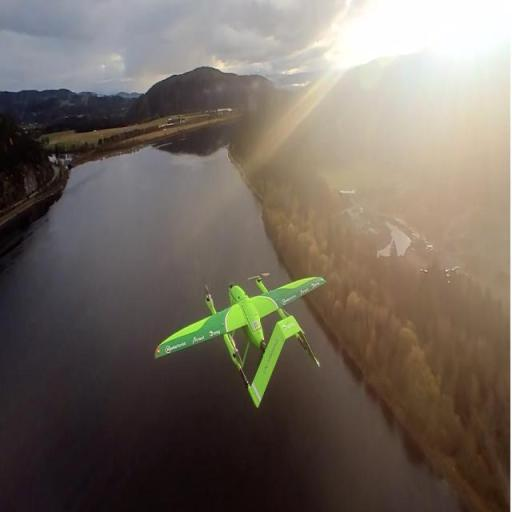uav: (140, 258, 328, 408)
